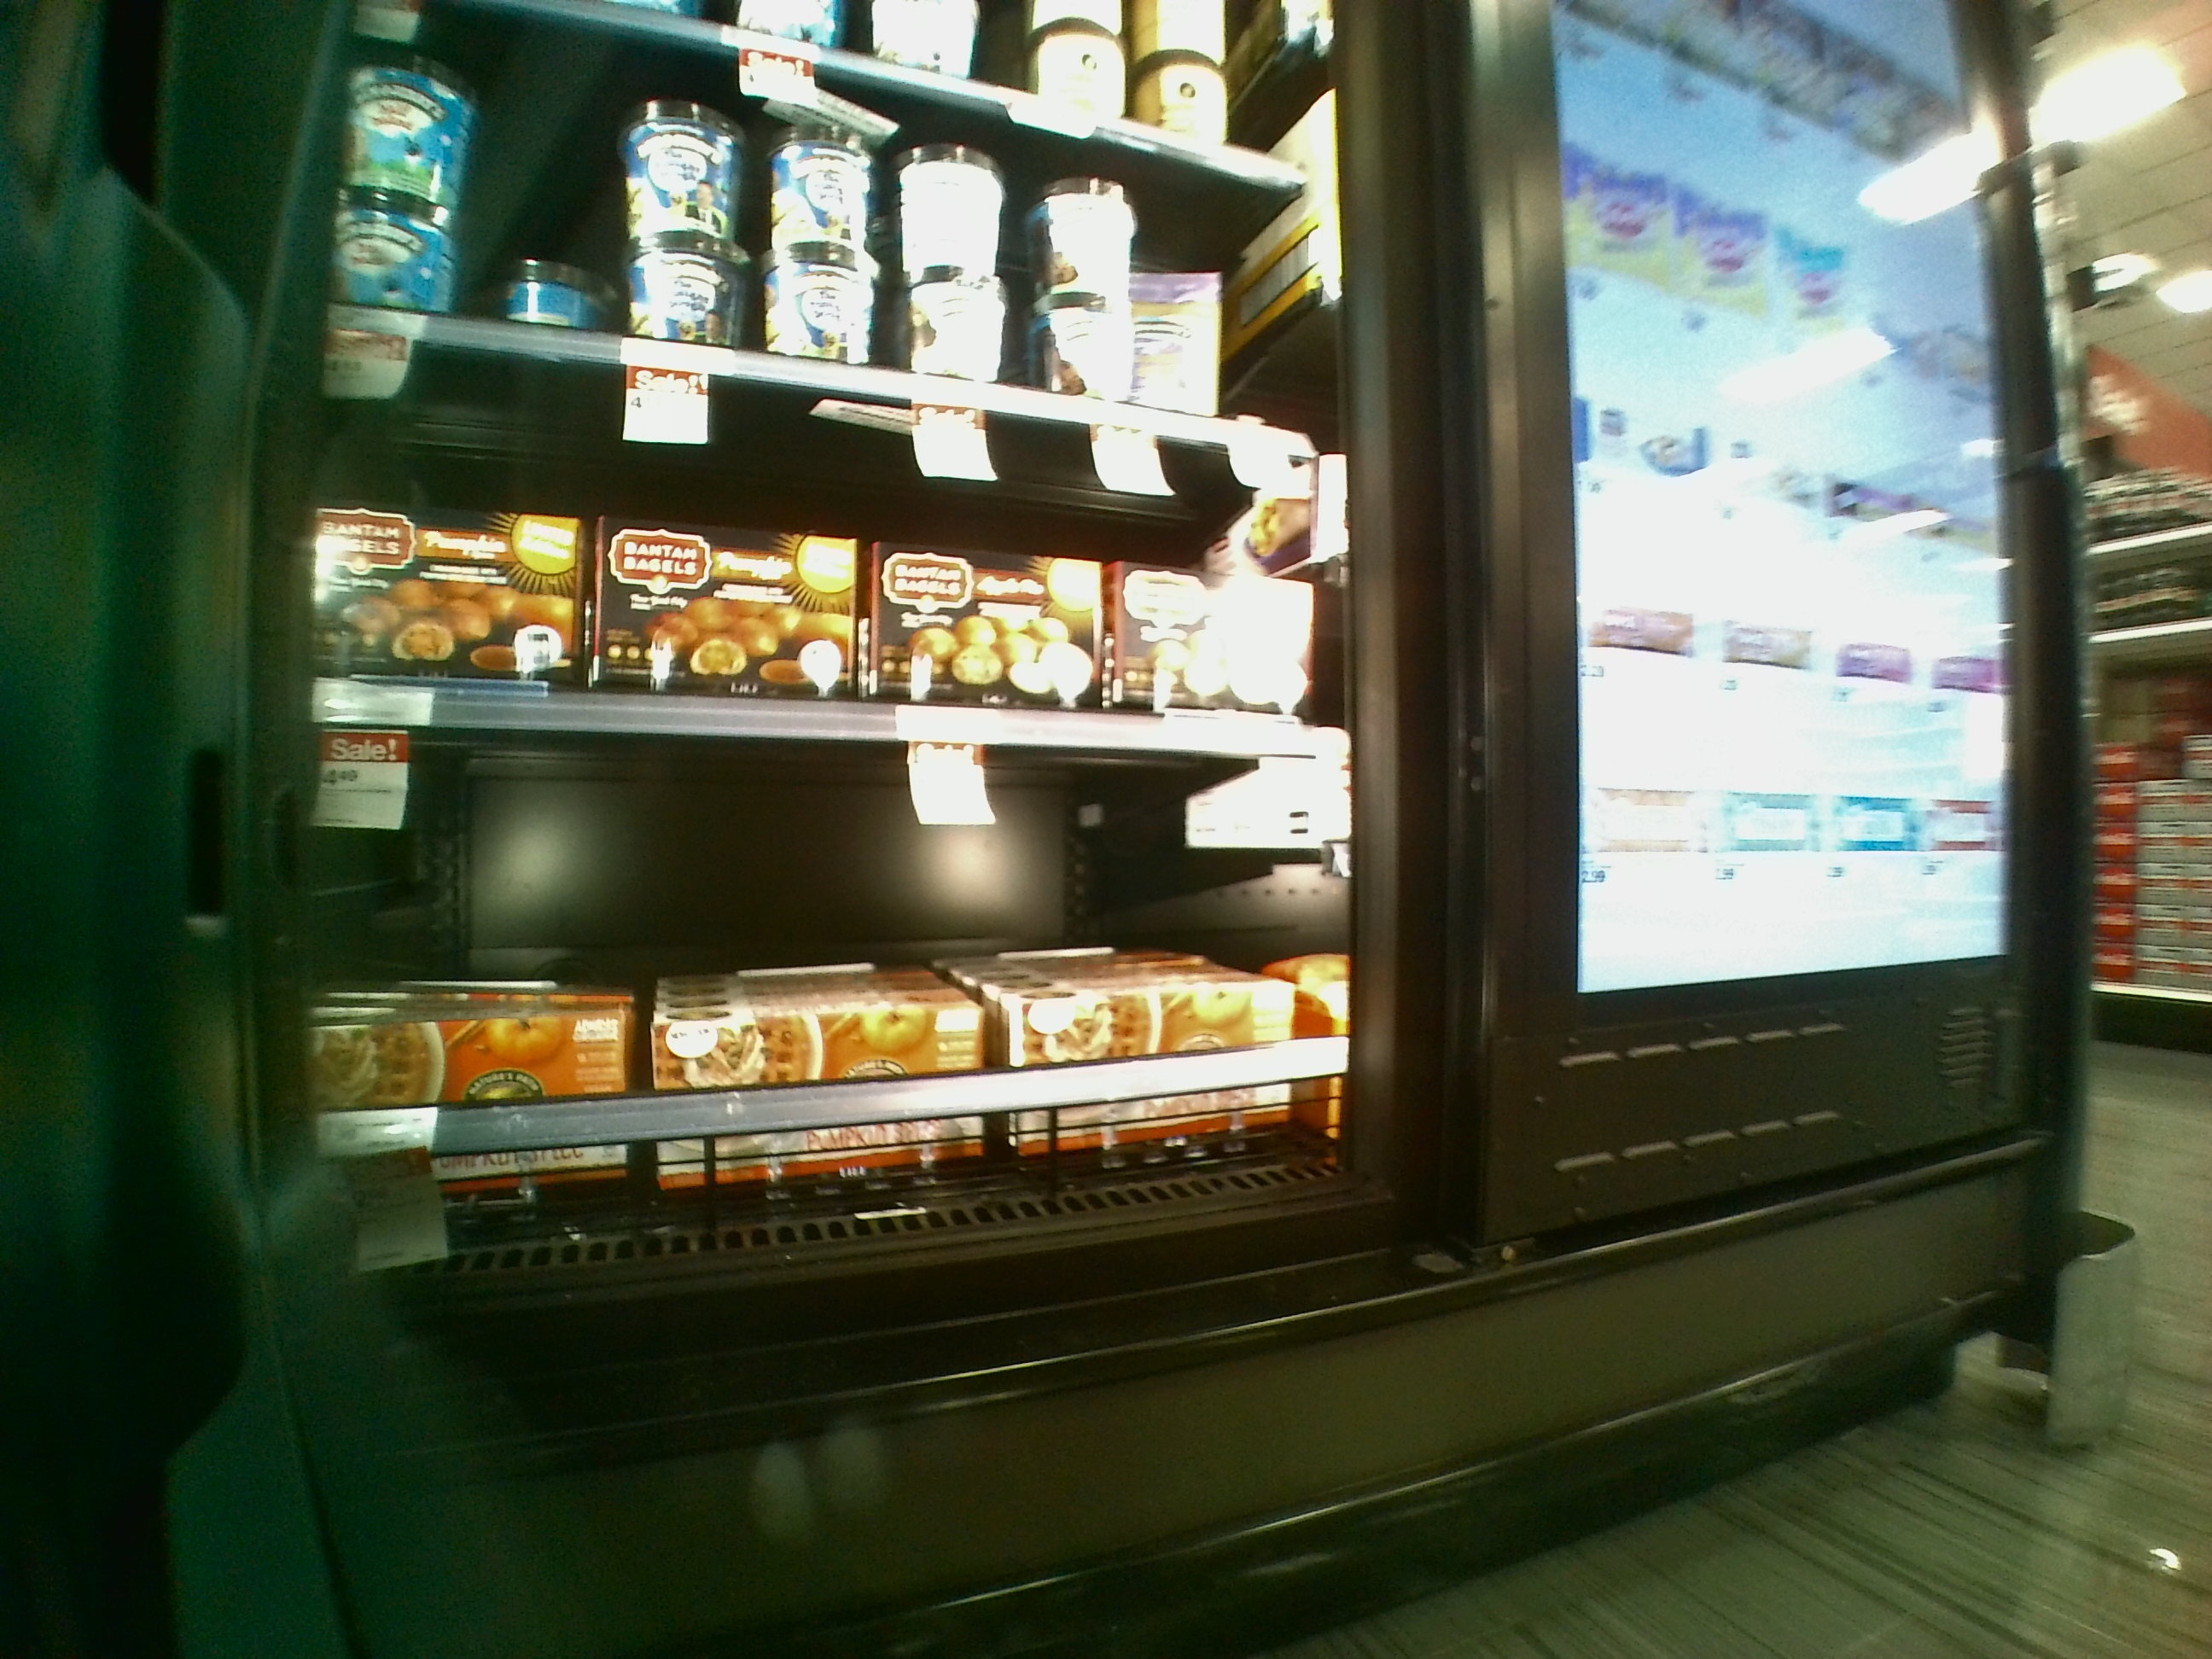shelf: (286, 713, 1357, 1239), (308, 315, 1343, 760)
